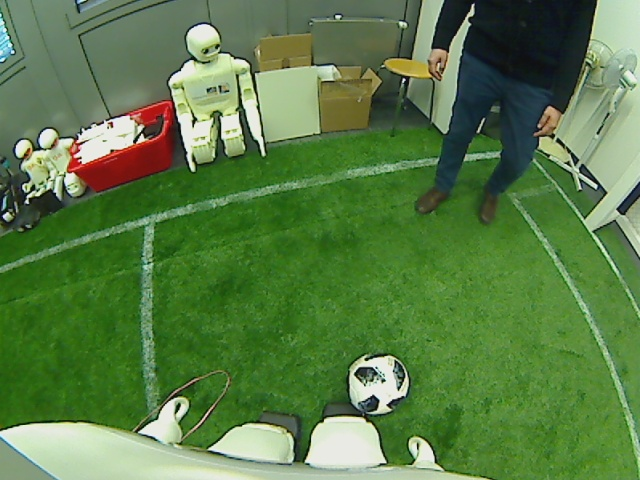ball: (345, 352, 412, 416)
